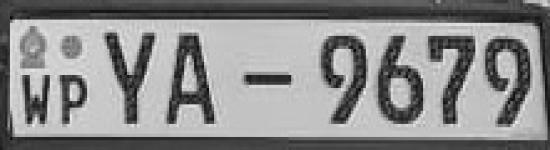-: (240, 67, 296, 93)
6: (373, 27, 427, 130)
7: (426, 28, 481, 136)
9: (483, 28, 538, 137), (316, 29, 370, 131)
A: (162, 27, 224, 133)
P: (56, 71, 91, 130)
W: (20, 71, 54, 130)
Y: (102, 27, 158, 129)
